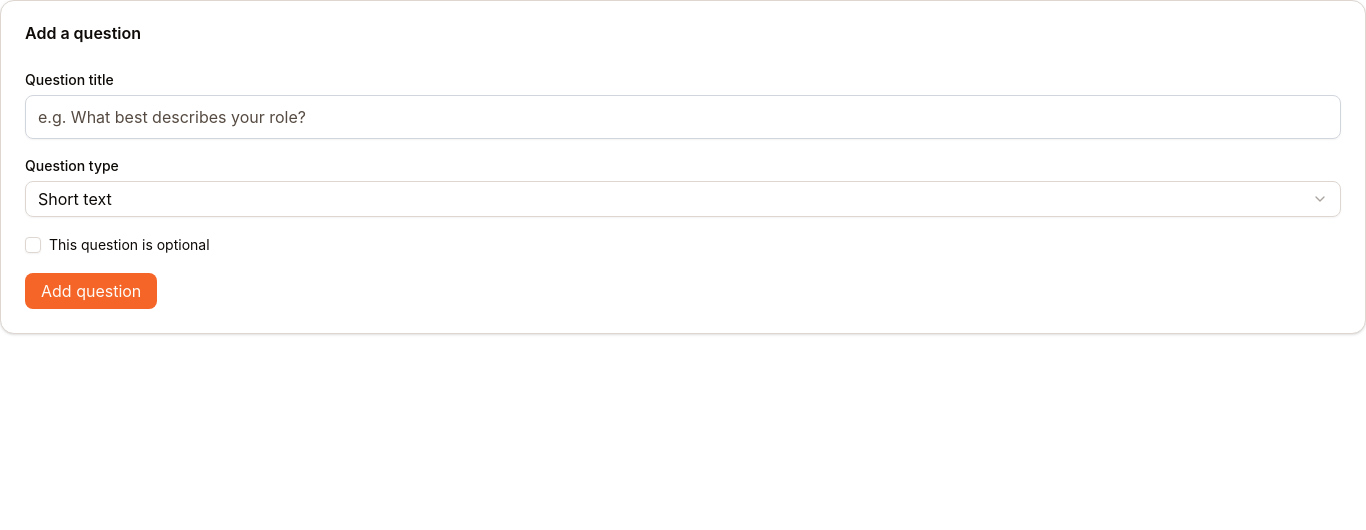
Test case: InteractiveQuestionForm › shows two option inputs when selecting single choice
The width and height of the screenshot is (1366, 530).
What coordinates should you click on to do the following:
click the dropdown named "question type"
I would click on:
 (75, 199)
Its box is [25,181,1341,217].
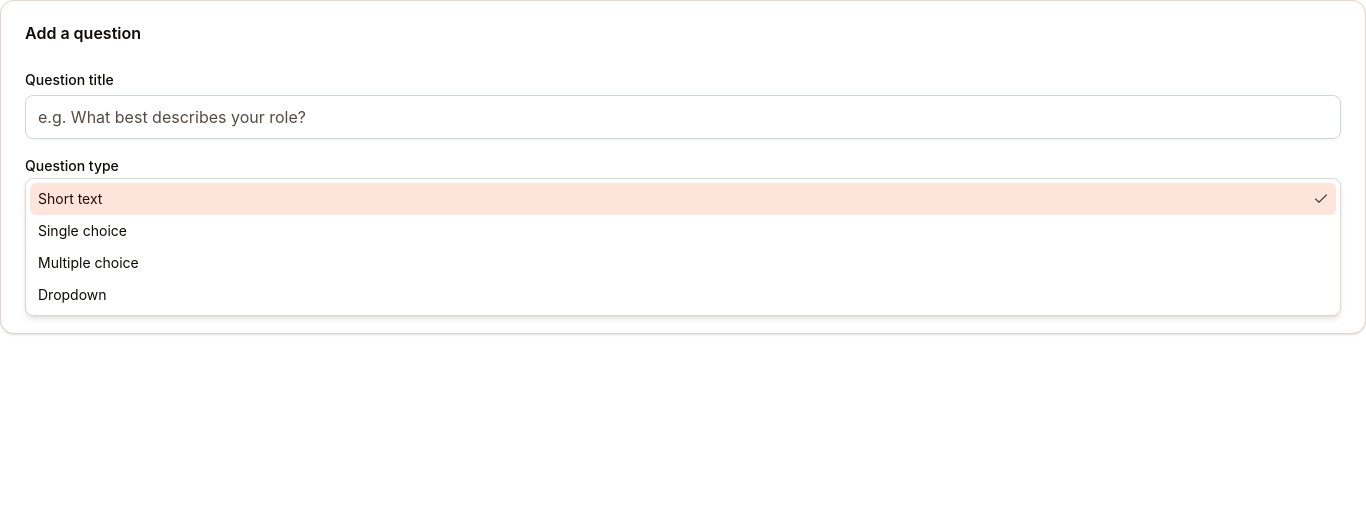
What coordinates should you click on to do the following:
click the option "Single choice"
I would click on:
 (82, 230)
Its box is [38,222,127,239].
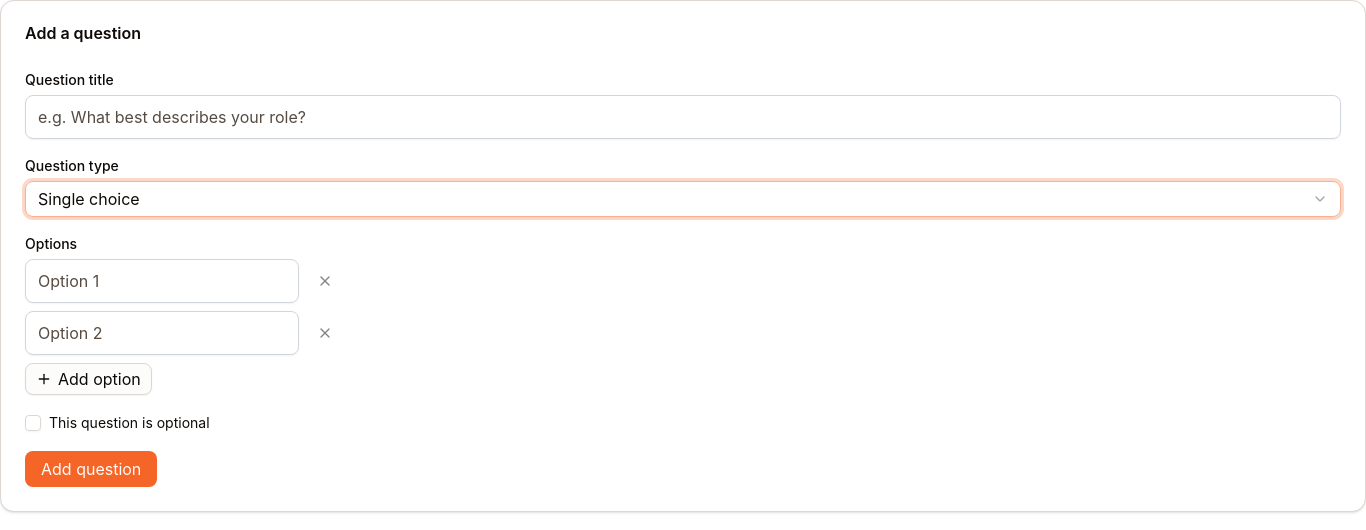
Check: the field with placeholder "Option 1" is shown, box [25,259,299,303]
Check: the field with placeholder "Option 2" is shown, box [25,311,299,355]
